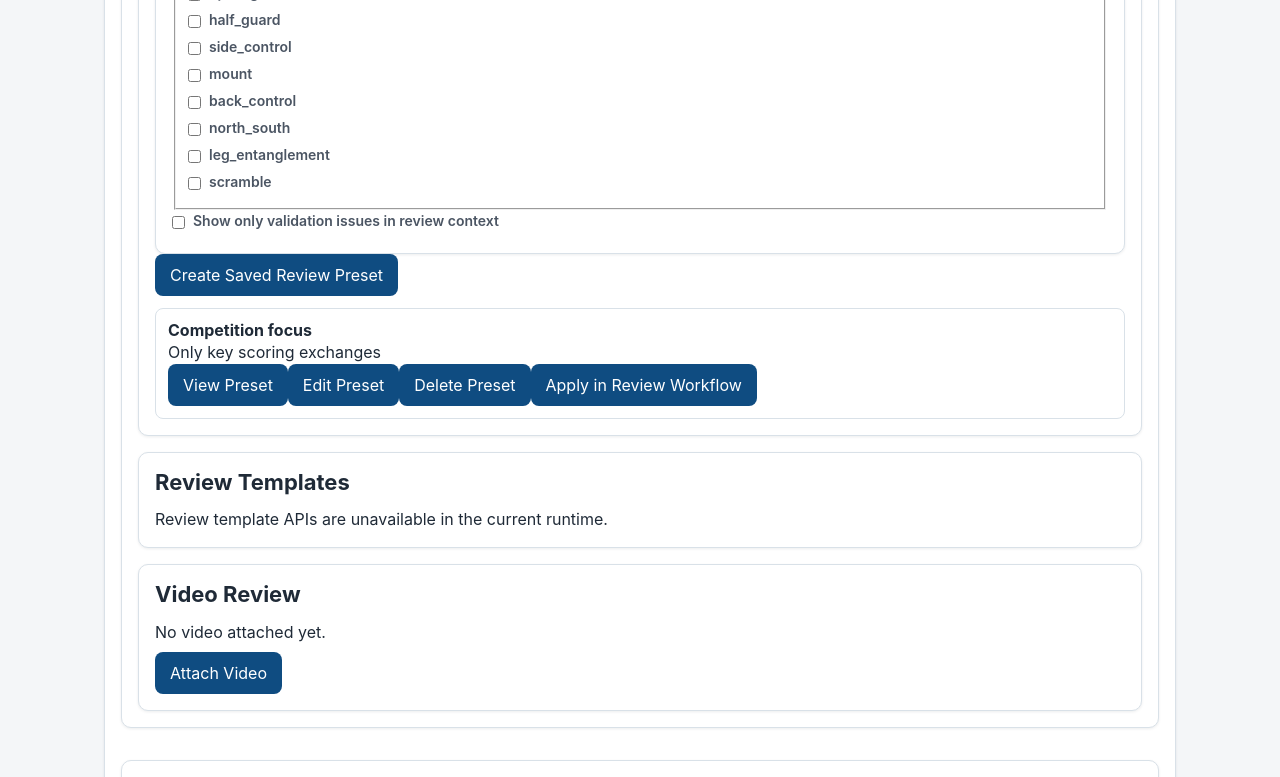
Test case: Saved review presets UI › handles not-found responses while loading selected preset details
(page scrolled)
Click the button "View Preset" at {"x": 228, "y": 385}, box [168,364,288,406]
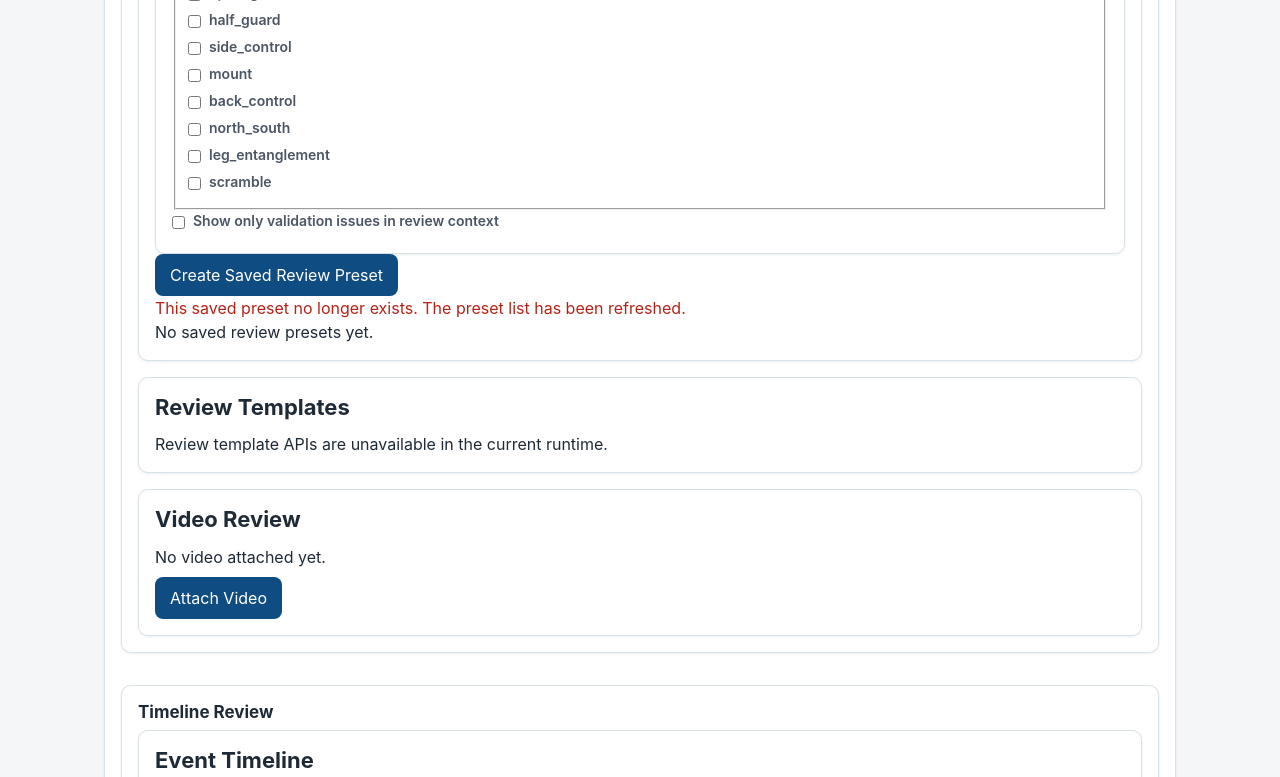
Expected: the text "This saved preset no longer exists. The preset list has been refreshed." is shown, [155,298,686,318]
